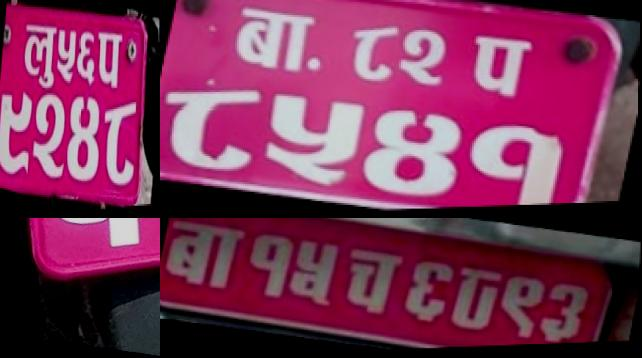1: (457, 114, 582, 210), (237, 224, 300, 310), (38, 218, 157, 261)
2: (30, 85, 71, 193), (394, 24, 457, 93)
3: (536, 271, 599, 347)
4: (354, 102, 472, 207), (61, 86, 106, 197)
5: (251, 87, 372, 194), (285, 231, 352, 318), (56, 24, 78, 88)
6: (395, 247, 462, 337), (75, 26, 101, 95)
8: (160, 74, 269, 182), (445, 256, 508, 346), (100, 90, 145, 199), (340, 19, 406, 89)
9: (492, 264, 551, 349), (0, 76, 37, 184)
ba: (225, 0, 320, 83), (160, 218, 250, 299)
cha: (336, 239, 410, 326)
lu: (20, 14, 59, 93)
pa: (461, 33, 542, 110), (94, 26, 126, 100)
